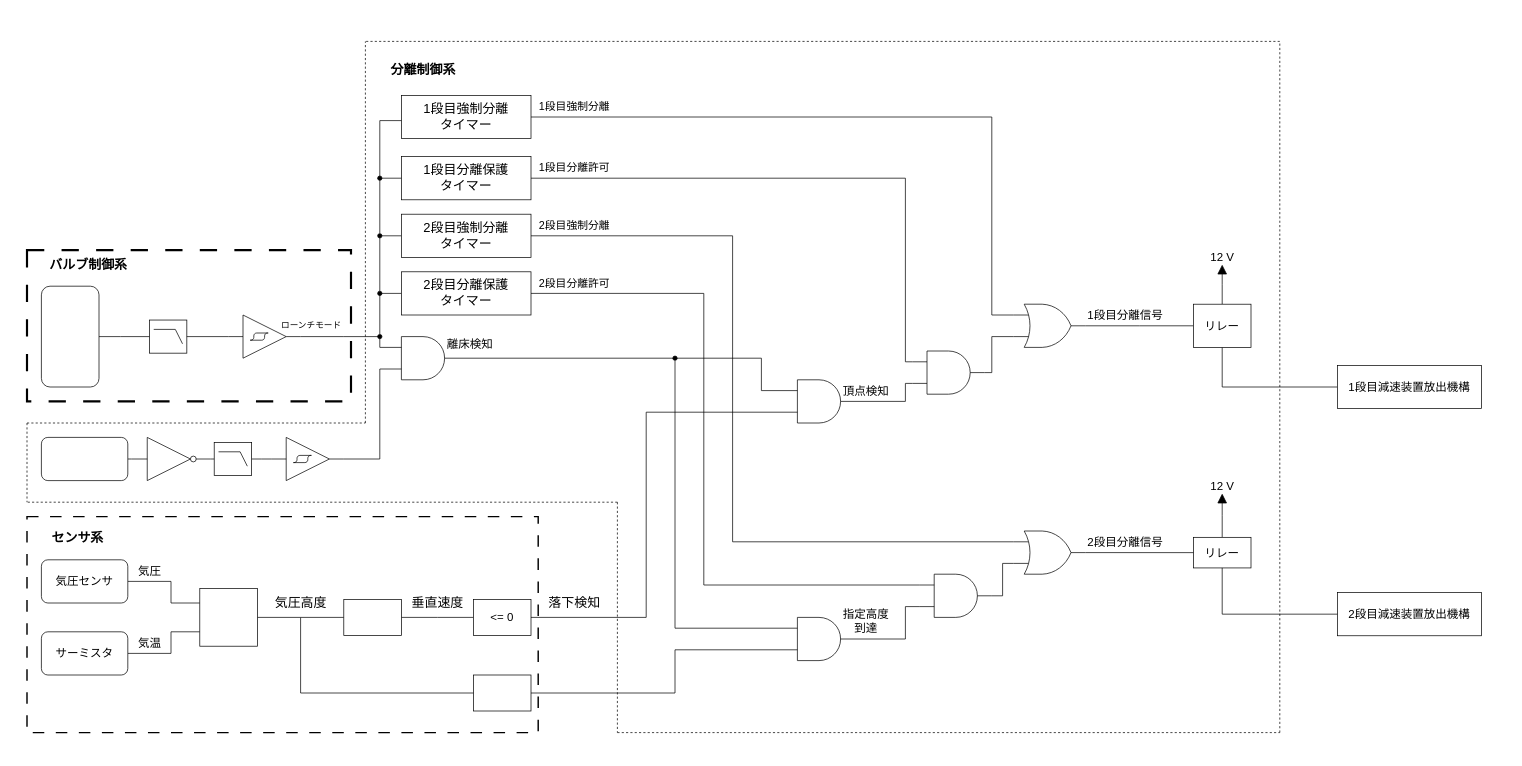
Some shapes in this 1522 by 766 pixel diagram are drawn without their labels. Here are the shapes that lost their labels. From the top down, the box of each, then its label:
(41, 285, 99, 387): GSE
(41, 437, 128, 481): フライトピン
(199, 588, 257, 646): 高度算出
(343, 599, 401, 635): 積分
(473, 674, 531, 711): <= 100 m
